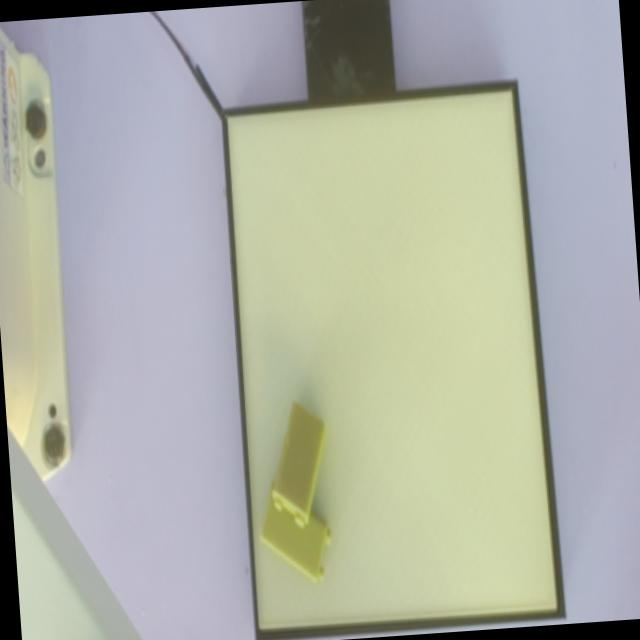bateria: (271, 397, 328, 525)
mesa: (221, 78, 566, 640)
